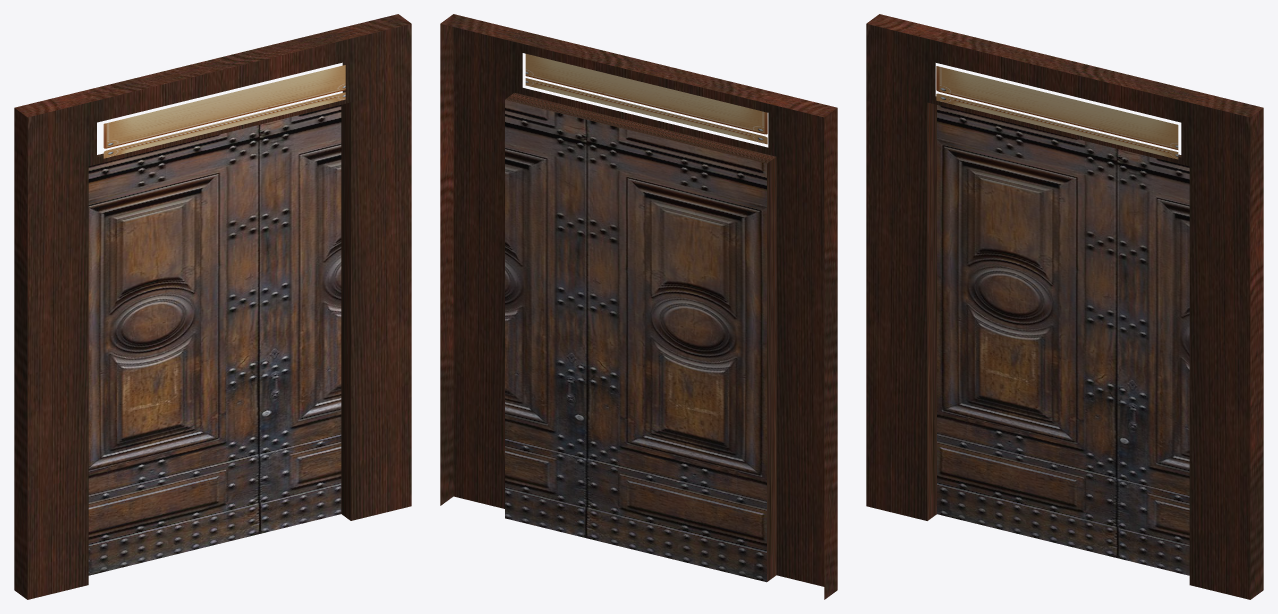
File: Doors.fbx
The picture shows the model from 3 angles, left to right: view 1: azimuth 30°, elevation 25°; view 2: azimuth 150°, elevation 25°; view 3: azimuth 330°, elevation 25°; orthographic projection.
Visible parts, largest first — view 1: Door; view 2: Door; view 3: Door.
Boxes of the visible parts, <box> form: Door: <box>14,14,411,599</box>; Door: <box>440,14,837,599</box>; Door: <box>866,14,1263,599</box>.
Bounding box in the file's own units: 500 × 600 × 36.84.
